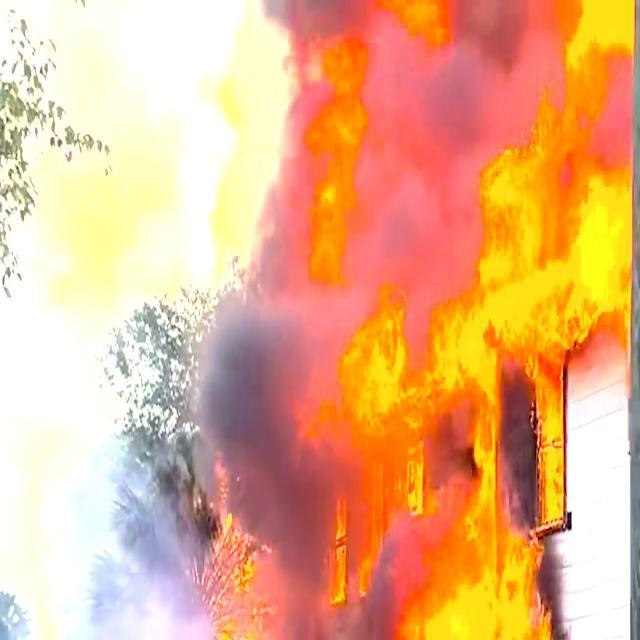Fire: (493, 164, 636, 515), (366, 308, 478, 482), (379, 516, 529, 640), (564, 21, 632, 108)
Smoke: (278, 0, 462, 236), (212, 320, 320, 570)
